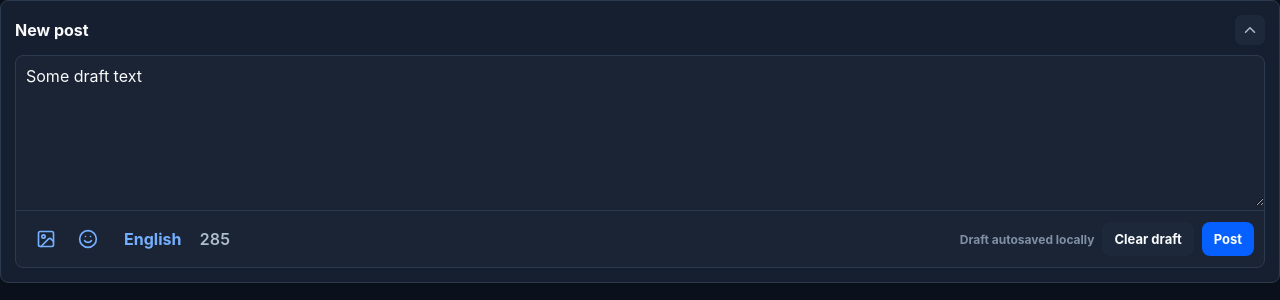
Test: PostComposer new-post mode › clears the draft from the Clear draft control
The width and height of the screenshot is (1280, 300).
Click the button "Clear draft".
click(1148, 239)  # box 1102,222 -> 1194,256
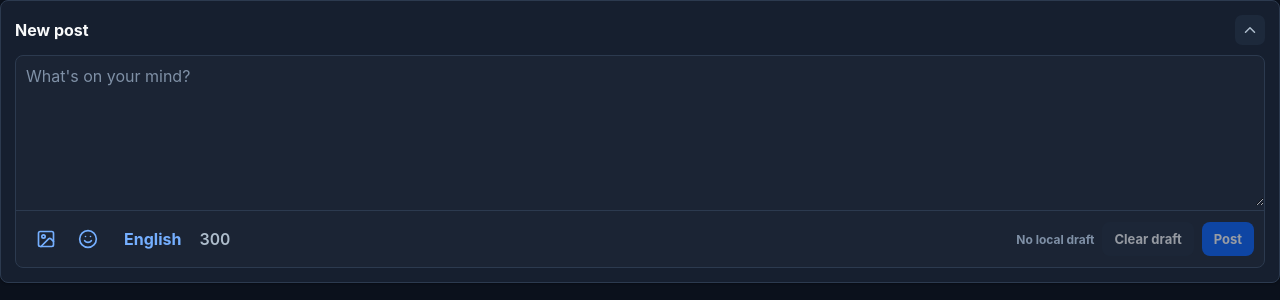
Result: the text box with placeholder "What's on your mind?" is empty at 16,56 -> 1264,206
